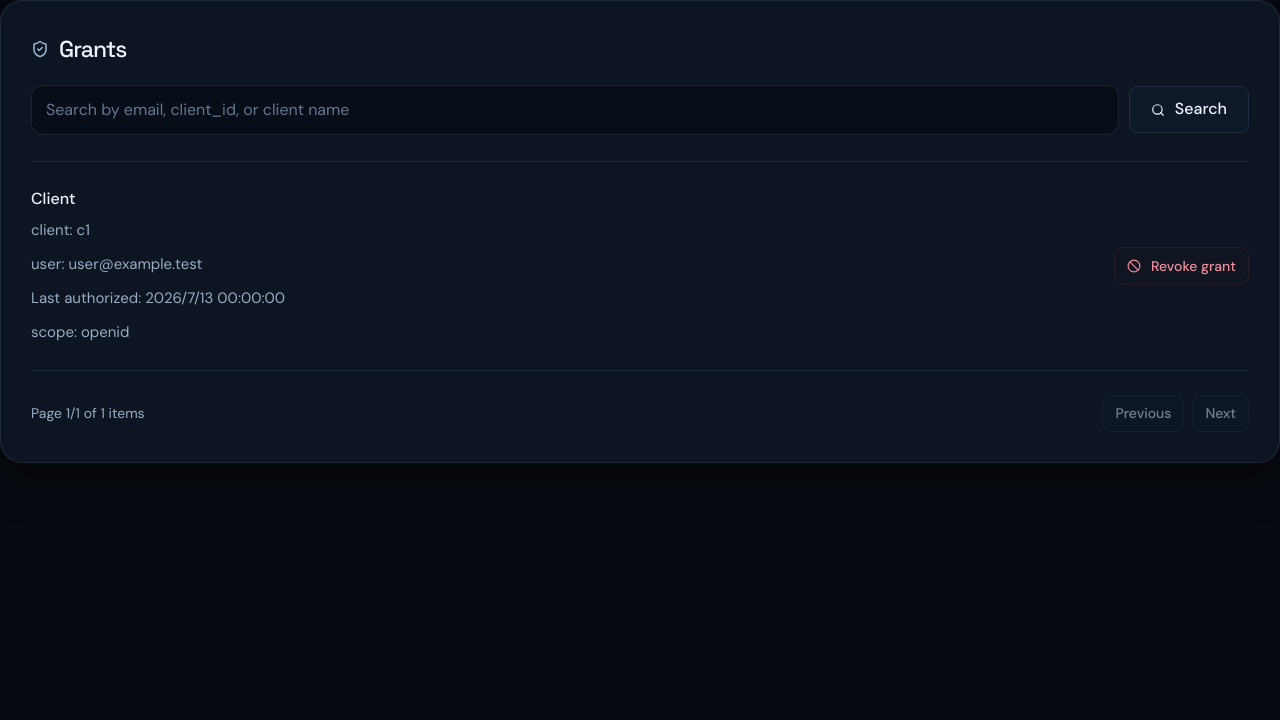
Test: legacy admin panels › revokes a grant and refreshes its current page
The width and height of the screenshot is (1280, 720).
Click the button "Revoke grant".
click(1182, 266)  # box left=1114, top=247, right=1249, bottom=285
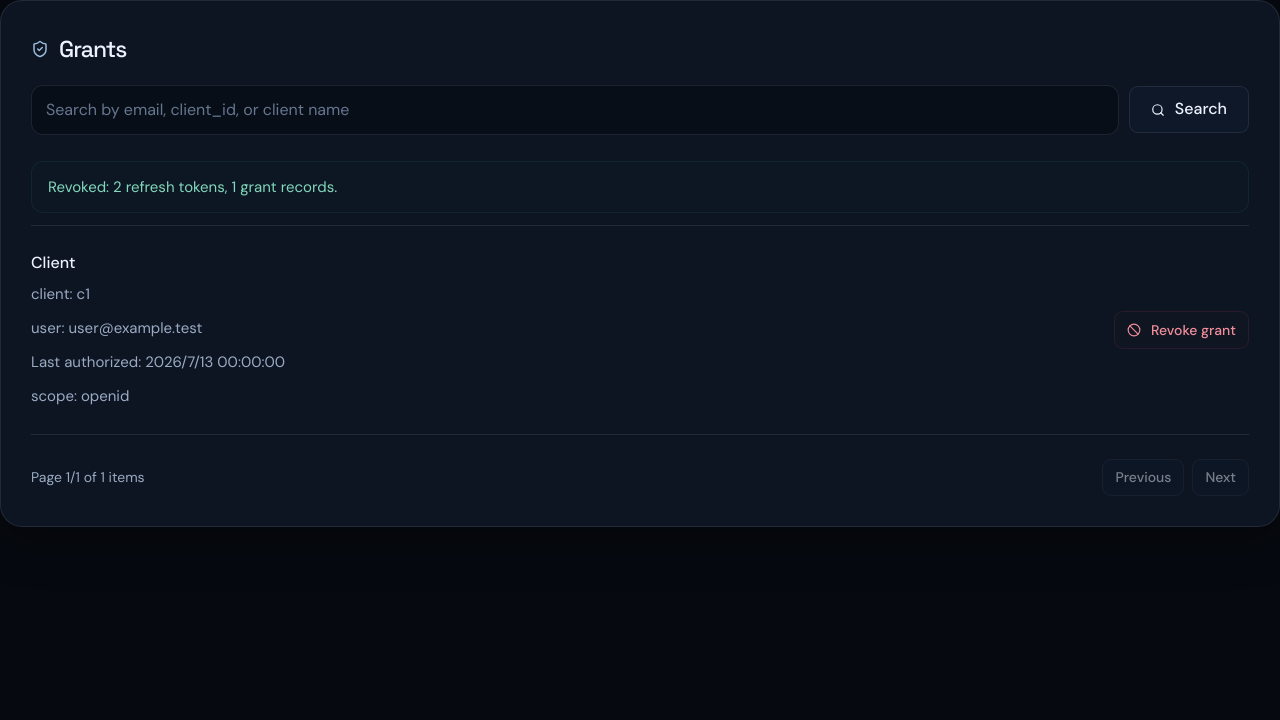
Now the text "Revoked: 2 refresh tokens, 1 grant records." is shown, box left=31, top=161, right=1249, bottom=213
